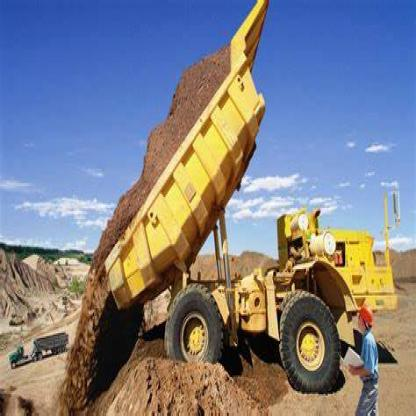dump_truck: (100, 3, 396, 382)
